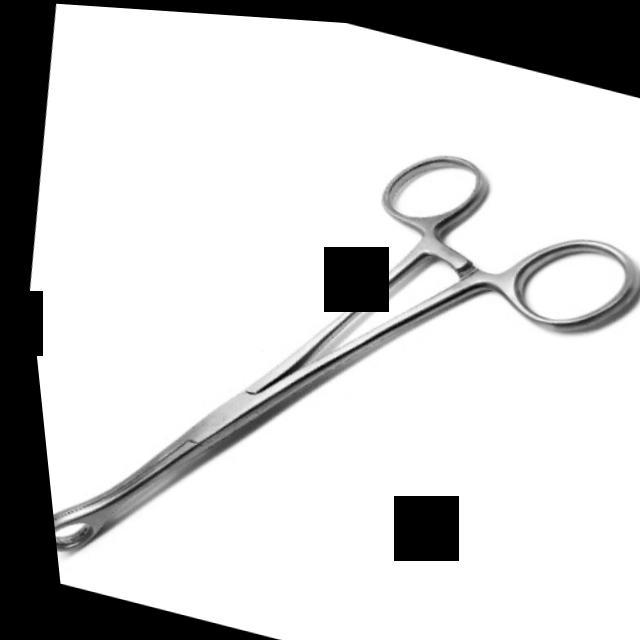Sponge Holding Forceps: (4, 46, 640, 640)
